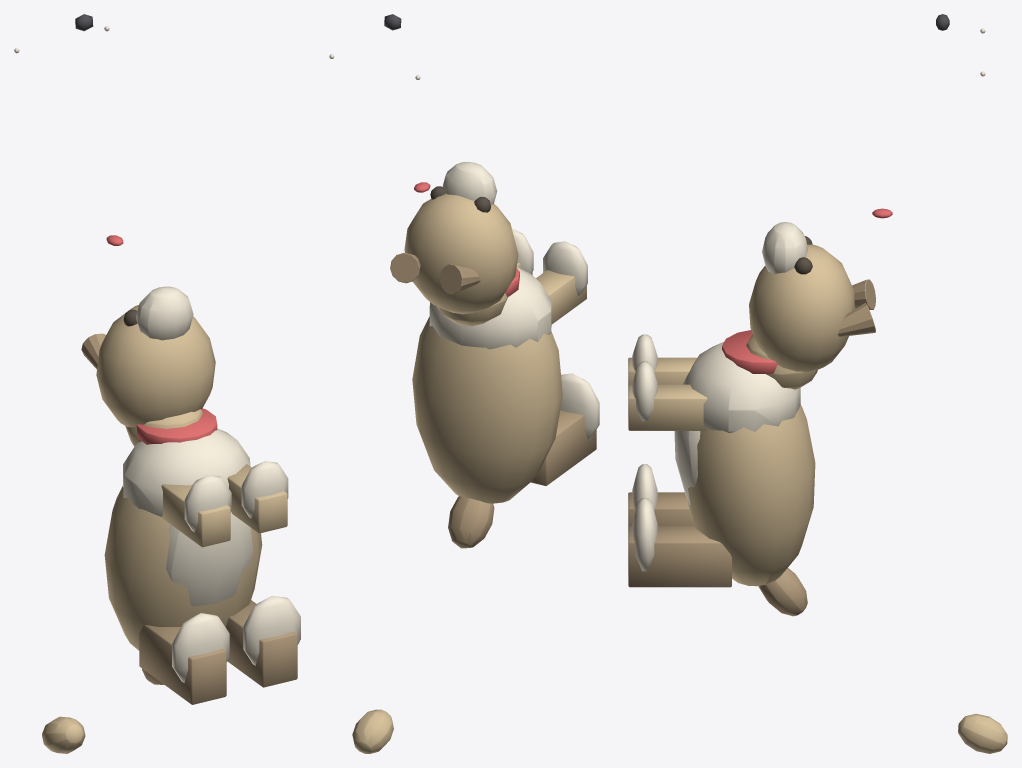
The model's file is dog.fbx.
3 views of the same model, side by side, from view 1: azimuth 30°, elevation 25°; view 2: azimuth 150°, elevation 25°; view 3: azimuth 270°, elevation 25° (orthographic). The views are drawn at different scales.
Visible parts, largest first — view 1: Body, Head, Chest, Belly, BackLeg_L, BackLeg_R, Snout, FrontLeg_L, BackPaw_R, BackPaw_L, FrontLeg_R, FrontPaw_R (+5 smaller); view 2: Body, Head, Chest, BackLeg_L, Tail_Base, Snout, BackPaw_L, FrontPaw_L, Tail_Tip, FrontLeg_L, Ear_L, Neck (+2 smaller); view 3: Body, Head, Chest, BackLeg_R, FrontLeg_R, Snout, Tail_Tip, Tail_Base, BackPaw_R, BackLeg_L, Belly, Collar (+6 smaller).
Boxes of the visible parts, bbox=[...] form: Body: bbox=[104, 486, 262, 650]; Head: bbox=[96, 305, 215, 427]; Chest: bbox=[123, 428, 250, 516]; Belly: bbox=[166, 512, 253, 606]; BackLeg_L: bbox=[139, 625, 226, 704]; BackLeg_R: bbox=[226, 600, 297, 687]; Snout: bbox=[136, 286, 193, 340]; FrontLeg_L: bbox=[161, 484, 230, 547]; BackPaw_R: bbox=[243, 595, 300, 665]; BackPaw_L: bbox=[172, 613, 229, 683]; FrontLeg_R: bbox=[227, 464, 287, 533]; FrontPaw_R: bbox=[241, 461, 288, 518]; Body: bbox=[412, 316, 562, 503]; Head: bbox=[404, 193, 518, 314]; Chest: bbox=[429, 267, 551, 349]; BackLeg_L: bbox=[530, 410, 596, 485]; Tail_Base: bbox=[448, 496, 494, 548]; Snout: bbox=[442, 162, 497, 204]; BackPaw_L: bbox=[560, 373, 599, 440]; FrontPaw_L: bbox=[543, 241, 587, 295]; Tail_Tip: bbox=[352, 709, 393, 753]; FrontLeg_L: bbox=[536, 270, 586, 324]; Ear_L: bbox=[440, 264, 480, 294]; Neck: bbox=[437, 293, 507, 326]; Body: bbox=[687, 405, 815, 586]; Head: bbox=[749, 244, 854, 372]; Chest: bbox=[683, 341, 800, 432]; BackLeg_R: bbox=[628, 526, 731, 587]; FrontLeg_R: bbox=[628, 384, 707, 430]; Snout: bbox=[762, 222, 807, 273]; Tail_Tip: bbox=[958, 713, 1007, 753]; Tail_Base: bbox=[758, 568, 807, 616]; BackPaw_R: bbox=[632, 498, 657, 571]; BackLeg_L: bbox=[628, 492, 694, 526]; Belly: bbox=[674, 431, 700, 505]; Collar: bbox=[722, 330, 777, 373].
Bounding box in the file's own units: 24 × 122 × 56.72.
